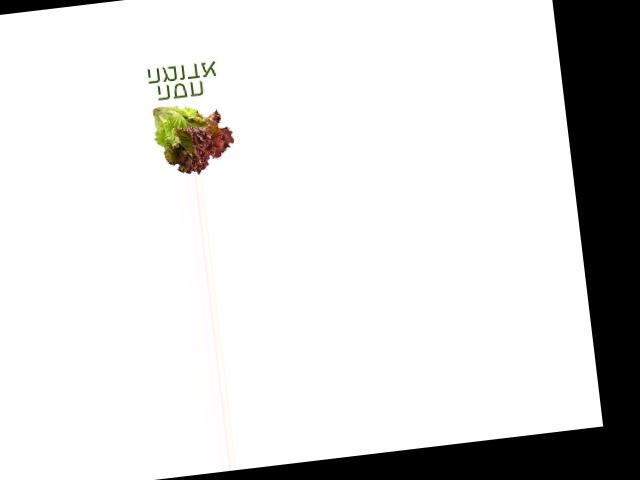lettuce: (143, 96, 239, 179)
